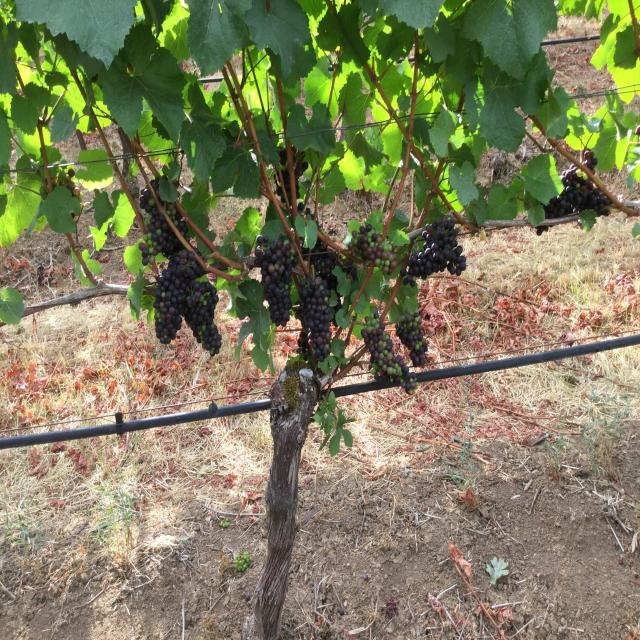grapes: (154, 250, 201, 345), (361, 313, 416, 393), (401, 218, 466, 285), (254, 237, 299, 327), (544, 165, 611, 218), (139, 188, 182, 265), (299, 277, 331, 362), (185, 282, 221, 357), (348, 223, 396, 275), (395, 308, 428, 367), (166, 203, 188, 237), (584, 150, 598, 172)
